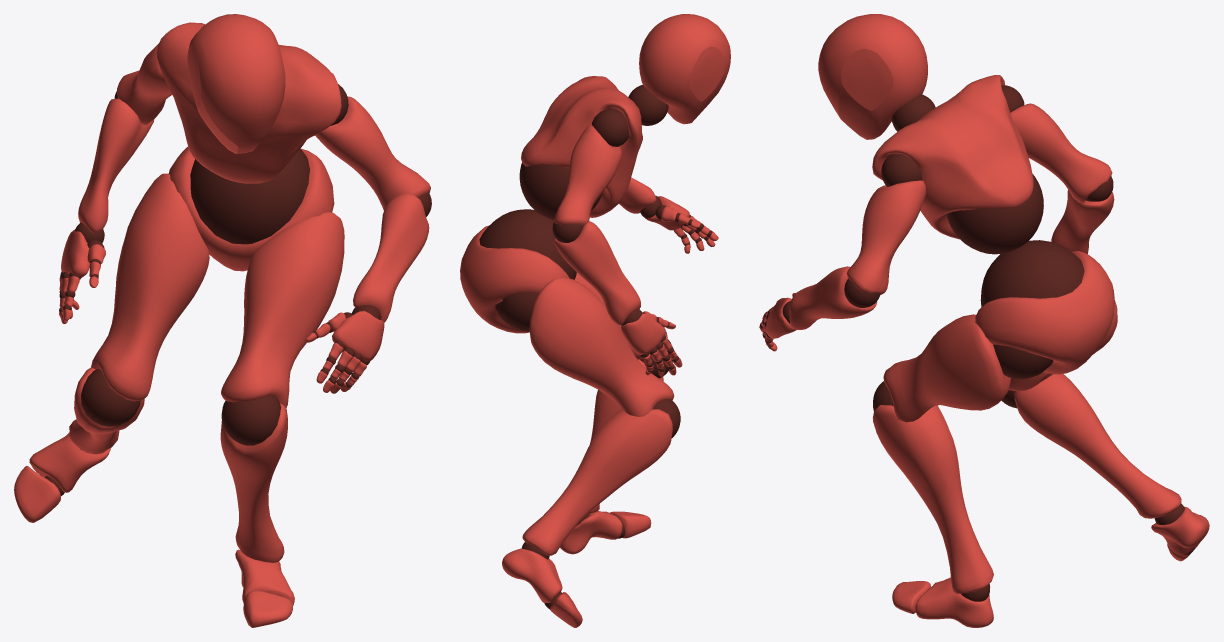
3 views of the same model, side by side, from view 1: azimuth 30°, elevation 25°; view 2: azimuth 150°, elevation 25°; view 3: azimuth 270°, elevation 25° (orthographic). The views are drawn at different scales.
Visible parts, largest first — view 1: Beta_Surface, Beta_Joints; view 2: Beta_Surface, Beta_Joints; view 3: Beta_Surface, Beta_Joints.
Boxes of the visible parts, <box> form: Beta_Surface: <box>14,14,430,627</box>; Beta_Joints: <box>45,84,431,495</box>; Beta_Surface: <box>460,14,730,627</box>; Beta_Joints: <box>479,84,712,609</box>; Beta_Surface: <box>759,14,1209,627</box>; Beta_Joints: <box>760,85,1194,601</box>.
Bounding box in the file's own units: 0.6262 × 1.39 × 0.9949.
